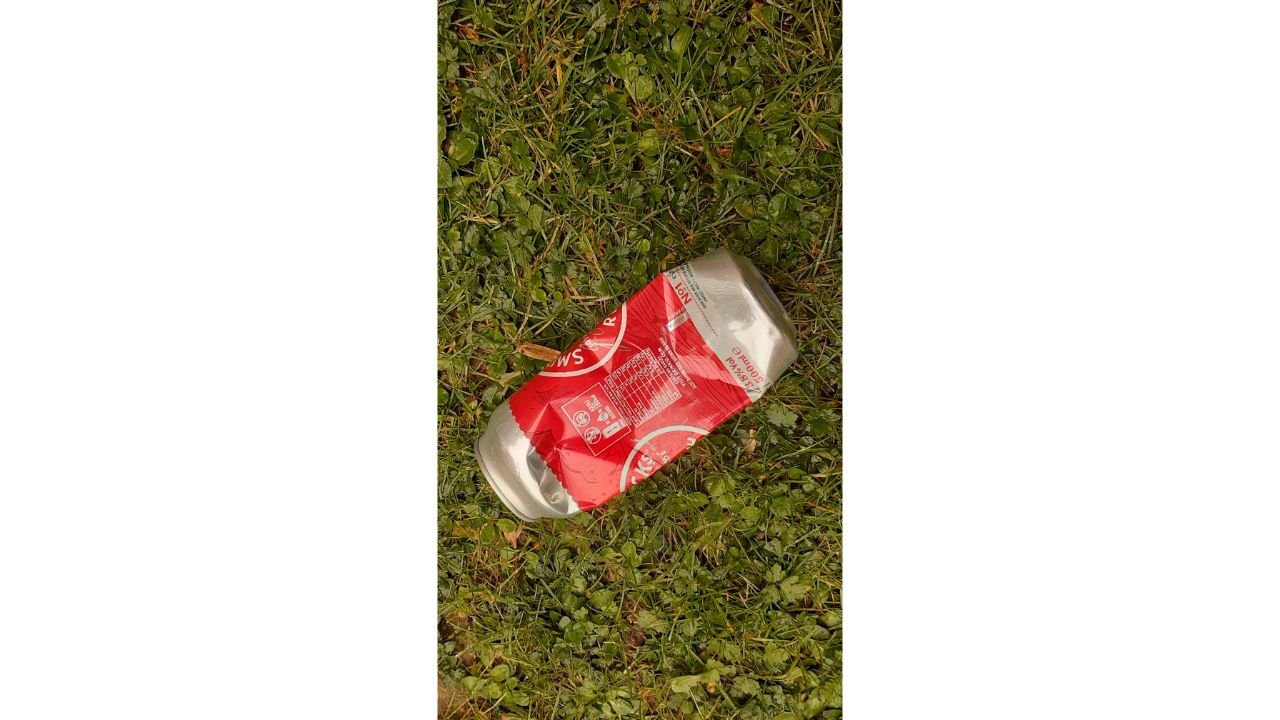Can: (471, 251, 800, 525)
